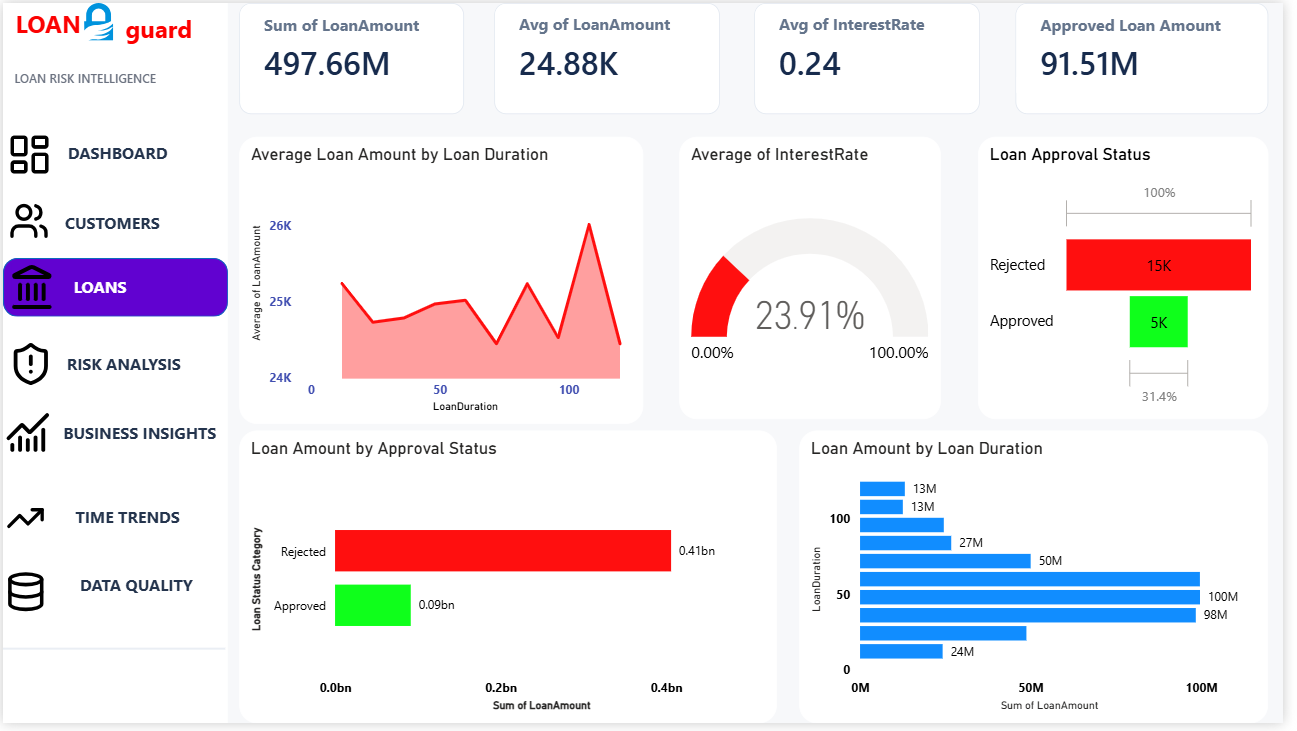

The page's visual inventory and layout, read from the dashboard file:
{"tool":"powerbi","page":{"name":"Loan Analysis","canvas":[1280,720],"ordinal":2},"visuals":[{"type":"shape","box":[0,0,225,720.4],"z":0},{"type":"textbox","box":[0,60.8,222.3,32.9],"z":0,"group":"g1"},{"type":"shape","box":[0,631.2,222.3,28.8],"z":0,"group":"g2"},{"type":"textbox","box":[19.3,197.2,181.1,51.5],"z":1000,"group":"g1"},{"type":"shape","box":[0,255,225,58.8],"z":1000},{"type":"group","id":"g1","title":"Group 3","box":[0,0,222.5,660],"z":2000},{"type":"textbox","box":[8.8,260,176.7,50.9],"z":2000,"group":"g1"},{"type":"actionButton","box":[0,128.8,187.5,46.2],"z":3000},{"type":"textbox","box":[46.2,406.2,176.1,50.9],"z":3000,"group":"g1"},{"type":"actionButton","box":[0,192.5,192.5,50],"z":4000},{"type":"textbox","box":[23.8,337.5,189.2,50.9],"z":4000,"group":"g1"},{"type":"actionButton","box":[2.5,335,192.5,50],"z":5000},{"type":"textbox","box":[36.2,490,176.7,50.9],"z":5000,"group":"g1"},{"type":"textbox","box":[25.7,126.4,176.7,50.9],"z":6000,"group":"g1"},{"type":"actionButton","box":[0,337.5,192.5,50],"z":6000},{"type":"image","box":[0,197.2,52.5,41.1],"z":7000,"group":"g1"},{"type":"actionButton","box":[0,402.5,213.8,50],"z":7000},{"type":"image","box":[3.4,128.4,45.6,46],"z":8000,"group":"g1"},{"type":"actionButton","box":[0,493.8,192.5,50],"z":8000},{"type":"image","box":[1.2,260,55.2,47.7],"z":9000,"group":"g1"},{"type":"actionButton","box":[0,560,192.5,50],"z":9000},{"type":"cardVisual","fields":{"Data":["Sum(loanguard loan_applications.LoanAmount)"]},"box":[236.2,0,225,111.2],"z":10000},{"type":"image","box":[5,337.5,45.6,47.7],"z":10000,"group":"g1"},{"type":"cardVisual","fields":{"Data":["Avg(loanguard loan_applications.LoanAmount)"]},"box":[491.2,0,225.6,111],"z":11000},{"type":"image","box":[0,406.2,49.7,46],"z":11000,"group":"g1"},{"type":"cardVisual","fields":{"Data":["Avg(loanguard loan_applications.InterestRate)"]},"box":[751.2,0,225.6,111],"z":12000},{"type":"image","box":[2.5,486.2,40,57.5],"z":12000,"group":"g1"},{"type":"cardVisual","fields":{"Data":["loanguard loan_applications.Approved Loan Amount"]},"box":[1012.5,0,252.5,111.2],"z":13000},{"type":"image","box":[0,567.5,45.6,42.7],"z":13000,"group":"g1"},{"type":"textbox","box":[6.9,0,85.6,60.8],"z":14000,"group":"g1"},{"type":"lineChart","title":"Average Loan Amount by Loan Duration","fields":{"Category":["loanguard loan_applications.LoanDuration"],"Y":["Avg(loanguard loan_applications.LoanAmount)"]},"box":[236.2,133.8,403.8,287.5],"z":14000},{"type":"image","box":[70.4,0,51.1,37.8],"z":15000,"group":"g1"},{"type":"gauge","fields":{"Y":["Avg(loanguard loan_applications.InterestRate)"]},"box":[676.2,133.8,261.2,282.5],"z":15000},{"type":"textbox","box":[117.4,4.9,87,54.2],"z":16000,"group":"g1"},{"type":"funnel","title":"Loan Approval Status","fields":{"Category":["loanguard loan_applications.Loan Status Category"],"Y":["loanguard loan_applications.Total Applications"]},"box":[975,133.8,290,282.5],"z":16000},{"type":"clusteredBarChart","title":"Loan Amount by Approval Status","fields":{"Category":["loanguard loan_applications.Loan Status Category"],"Y":["Sum(loanguard loan_applications.LoanAmount)"]},"box":[236.2,427.5,537.5,292.5],"z":17000},{"type":"group","id":"g2","title":"Group 1","box":[0,631.2,222.5,28.8],"z":17000,"group":"g1"},{"type":"clusteredBarChart","title":"Loan Amount by Loan Duration","fields":{"Y":["Sum(loanguard loan_applications.LoanAmount)"],"Category":["loanguard loan_applications.LoanDuration"]},"box":[796.2,427.5,468.8,292.5],"z":18000},{"type":"textbox","box":[45,558.8,176.7,50.9],"z":18000,"group":"g1"}]}

Visuals, with their boxes in screenshot pixels (x1, y1, x2, y2), scaled from the page's 1280x720 canvas onto the 1297x731 screenshot:
shape: {"left": 0, "top": 0, "right": 228, "bottom": 730}
textbox: {"left": 0, "top": 62, "right": 225, "bottom": 95}
shape: {"left": 0, "top": 641, "right": 225, "bottom": 670}
textbox: {"left": 20, "top": 200, "right": 203, "bottom": 252}
shape: {"left": 0, "top": 259, "right": 228, "bottom": 319}
"Group 3" group: {"left": 0, "top": 0, "right": 225, "bottom": 670}
textbox: {"left": 9, "top": 264, "right": 188, "bottom": 316}
actionButton: {"left": 0, "top": 131, "right": 190, "bottom": 178}
textbox: {"left": 47, "top": 412, "right": 225, "bottom": 464}
actionButton: {"left": 0, "top": 195, "right": 195, "bottom": 246}
textbox: {"left": 24, "top": 343, "right": 216, "bottom": 394}
actionButton: {"left": 3, "top": 340, "right": 198, "bottom": 391}
textbox: {"left": 37, "top": 497, "right": 216, "bottom": 549}
textbox: {"left": 26, "top": 128, "right": 205, "bottom": 180}
actionButton: {"left": 0, "top": 343, "right": 195, "bottom": 393}
image: {"left": 0, "top": 200, "right": 53, "bottom": 242}
actionButton: {"left": 0, "top": 409, "right": 217, "bottom": 459}
image: {"left": 3, "top": 130, "right": 50, "bottom": 177}
actionButton: {"left": 0, "top": 501, "right": 195, "bottom": 552}
image: {"left": 1, "top": 264, "right": 57, "bottom": 312}
actionButton: {"left": 0, "top": 569, "right": 195, "bottom": 619}
cardVisual - Sum(loanguard loan_applications.LoanAmount): {"left": 239, "top": 0, "right": 467, "bottom": 113}
image: {"left": 5, "top": 343, "right": 51, "bottom": 391}
cardVisual - Avg(loanguard loan_applications.LoanAmount): {"left": 498, "top": 0, "right": 726, "bottom": 113}
image: {"left": 0, "top": 412, "right": 50, "bottom": 459}
cardVisual - Avg(loanguard loan_applications.InterestRate): {"left": 761, "top": 0, "right": 990, "bottom": 113}
image: {"left": 3, "top": 494, "right": 43, "bottom": 552}
cardVisual - loanguard loan_applications.Approved Loan Amount: {"left": 1026, "top": 0, "right": 1282, "bottom": 113}
image: {"left": 0, "top": 576, "right": 46, "bottom": 620}
textbox: {"left": 7, "top": 0, "right": 94, "bottom": 62}
"Average Loan Amount by Loan Duration" lineChart: {"left": 239, "top": 136, "right": 648, "bottom": 428}
image: {"left": 71, "top": 0, "right": 123, "bottom": 38}
gauge - Avg(loanguard loan_applications.InterestRate): {"left": 685, "top": 136, "right": 950, "bottom": 423}
textbox: {"left": 119, "top": 5, "right": 207, "bottom": 60}
"Loan Approval Status" funnel: {"left": 988, "top": 136, "right": 1282, "bottom": 423}
"Loan Amount by Approval Status" clusteredBarChart: {"left": 239, "top": 434, "right": 784, "bottom": 730}
"Group 1" group: {"left": 0, "top": 641, "right": 225, "bottom": 670}
"Loan Amount by Loan Duration" clusteredBarChart: {"left": 807, "top": 434, "right": 1282, "bottom": 730}
textbox: {"left": 46, "top": 567, "right": 225, "bottom": 619}
